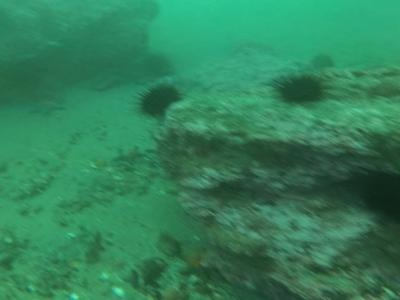holothurian: (10, 173, 58, 199)
urchin: (272, 74, 325, 102), (138, 83, 180, 117)
